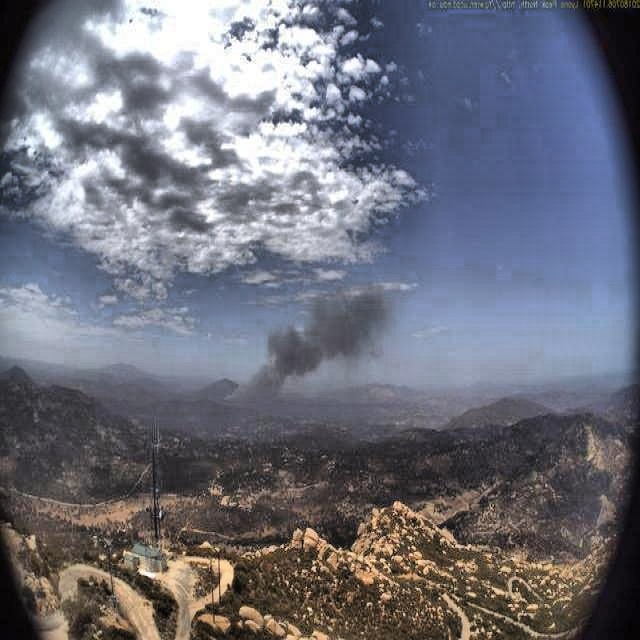smoke: (220, 272, 411, 420)
